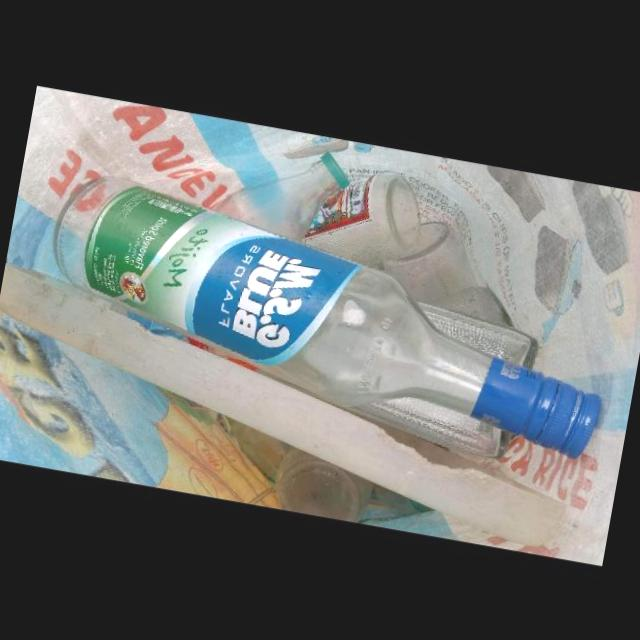chai_thuy_tinh: (51, 176, 602, 458), (212, 152, 349, 241), (302, 172, 420, 264), (275, 446, 373, 524)
xop: (0, 262, 567, 546)
